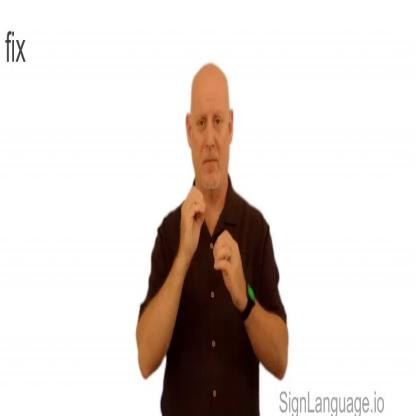Fix: (170, 162, 268, 317)
